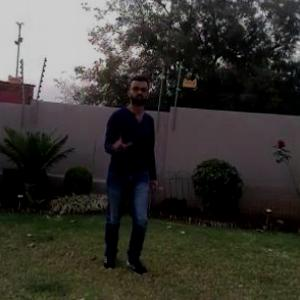land_hand: (108, 128, 137, 157)
